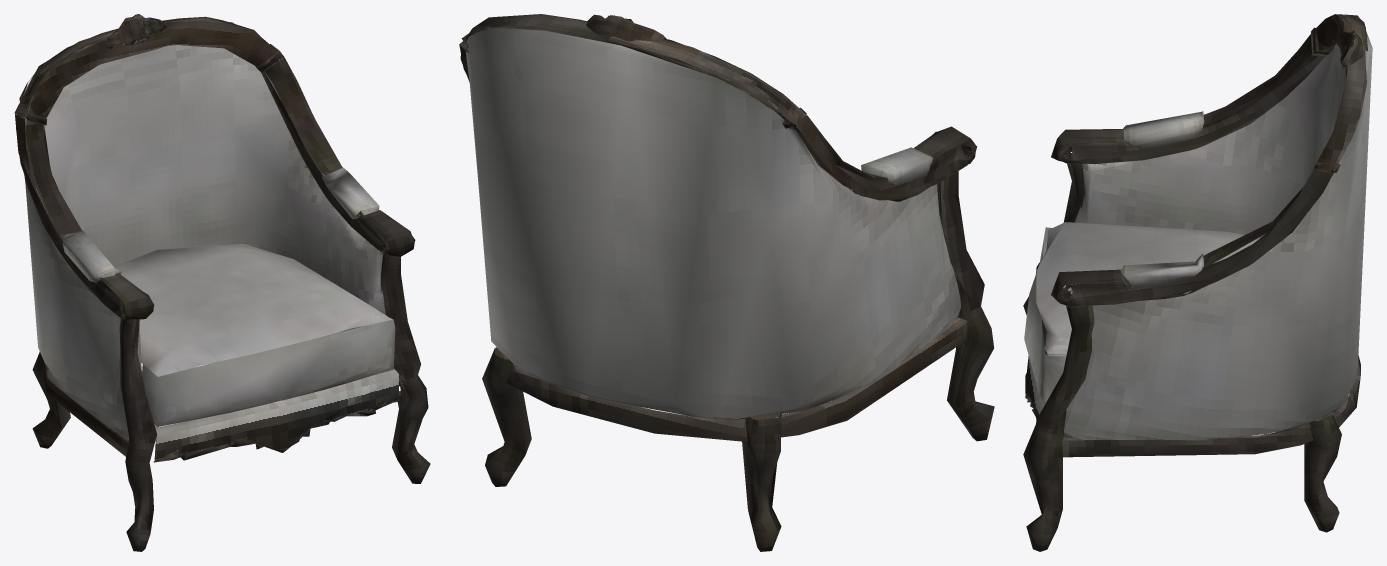
The model's file is ArmChair_01.glb.
3 views of the same model, side by side, from view 1: azimuth 30°, elevation 25°; view 2: azimuth 150°, elevation 25°; view 3: azimuth 270°, elevation 25° (orthographic). The views are drawn at different scales.
Parts seen in each view (by area): view 1: ArmChair_01; view 2: ArmChair_01; view 3: ArmChair_01.
Part boxes in pixels (x1,y1,x2,y2): ArmChair_01: [14, 14, 430, 551]; ArmChair_01: [459, 14, 994, 551]; ArmChair_01: [1023, 14, 1372, 551].
Size of the model in its own units: 0.8459 by 1.06 by 0.7682.
Materials: 1 (1 with a texture image).
